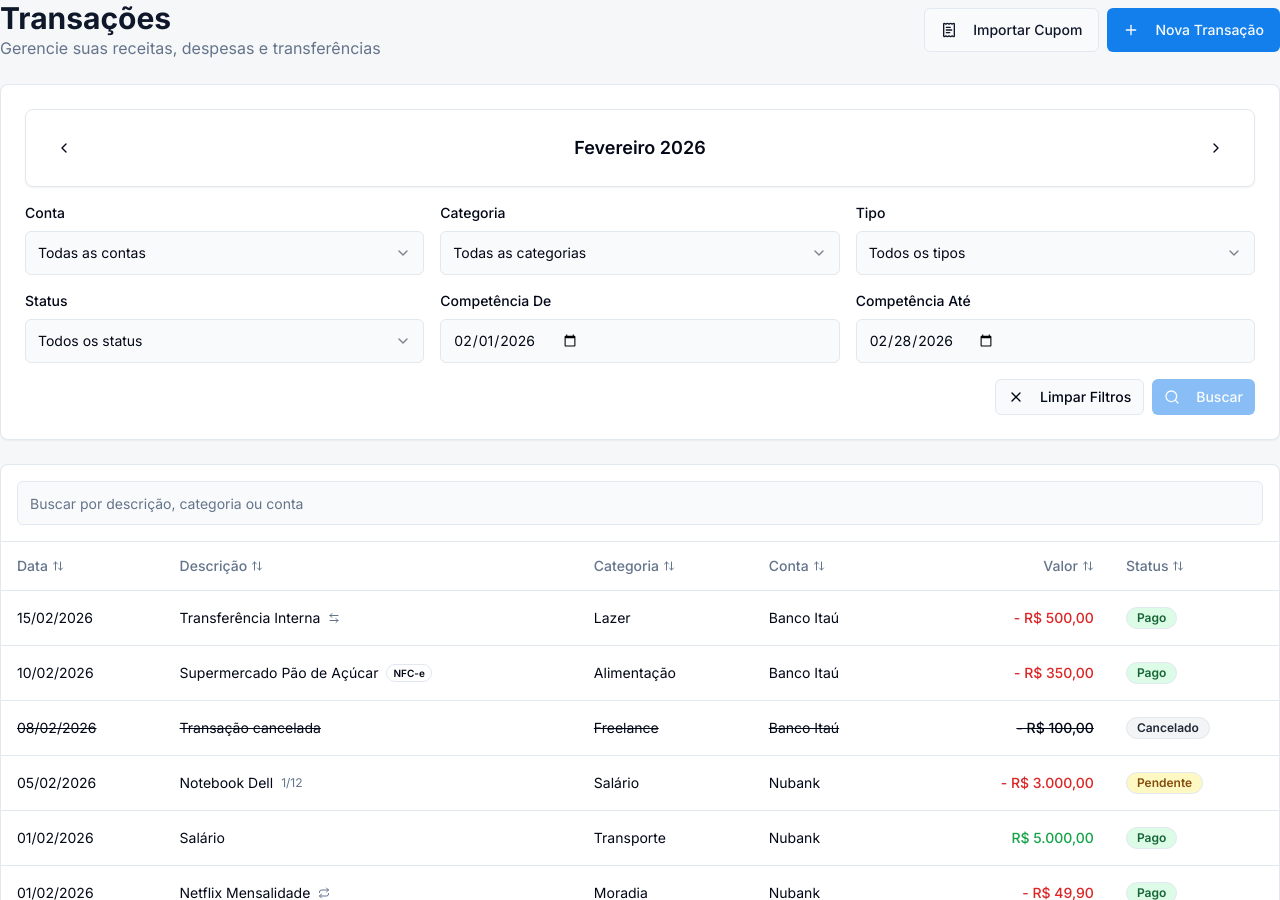
Test case: TransactionsPage Integration Tests › Empty States › shows empty state when no transactions match filters
Expected: the heading "Transações" is shown, [0, 0, 171, 36]
# Apply filter that returns no results - filter by account with no transactions
Step 1. Click the dropdown labelled "Todas as contas" → coordinates (92, 252), box [25, 231, 424, 275]
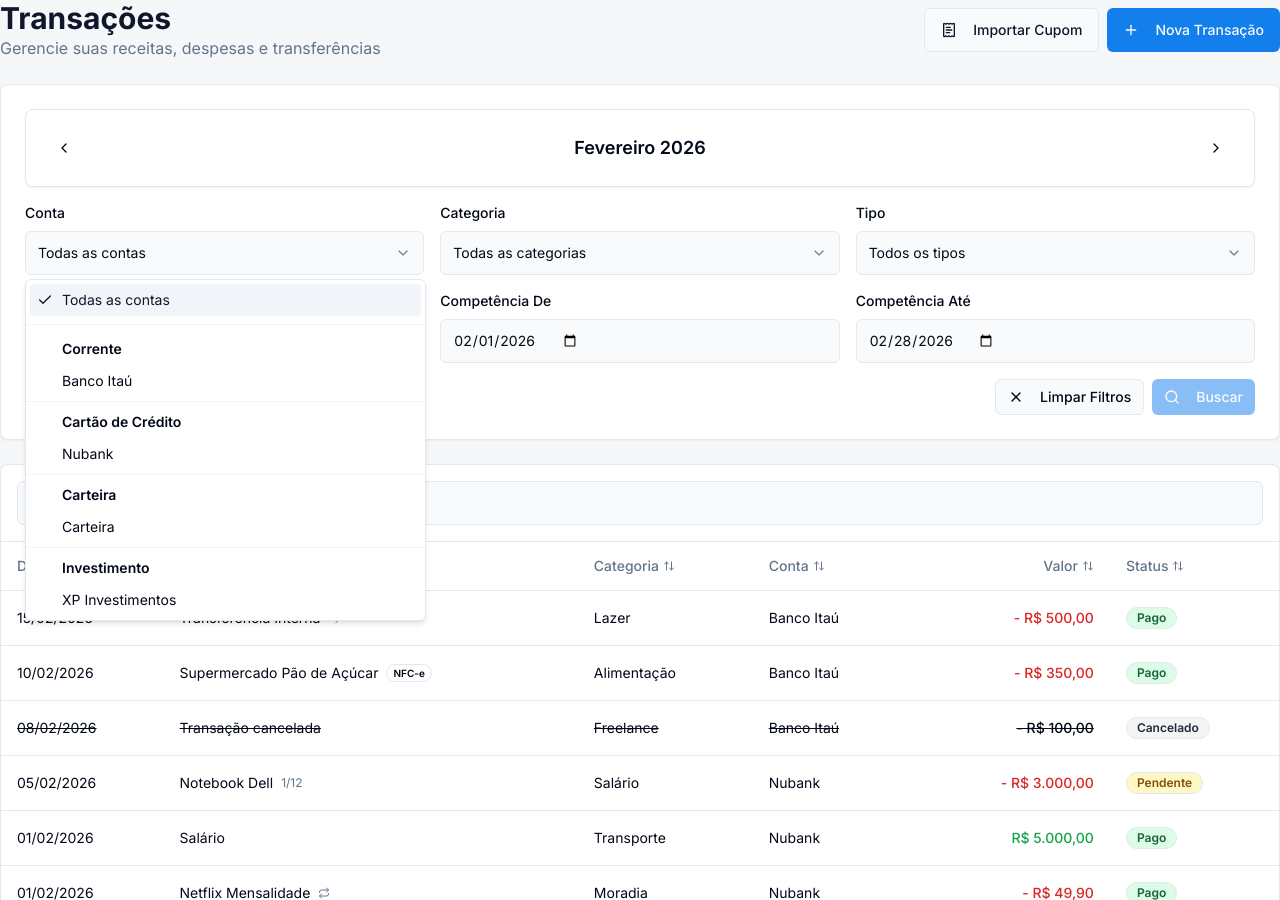
Step 2. Click the option "Carteira" → coordinates (88, 526), box [62, 518, 115, 535]
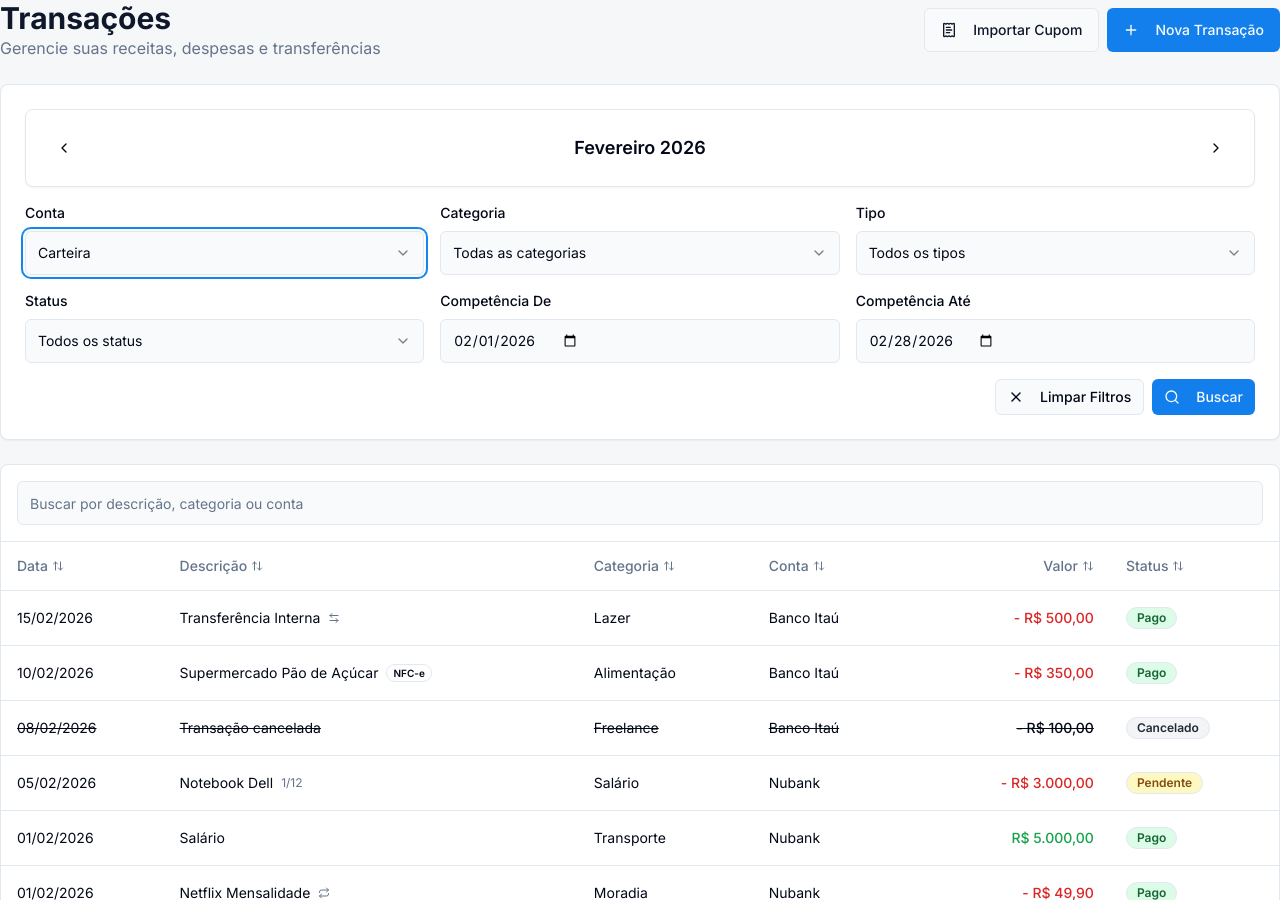
Step 3. Click the button "Buscar" → coordinates (1204, 397), box [1152, 379, 1255, 415]
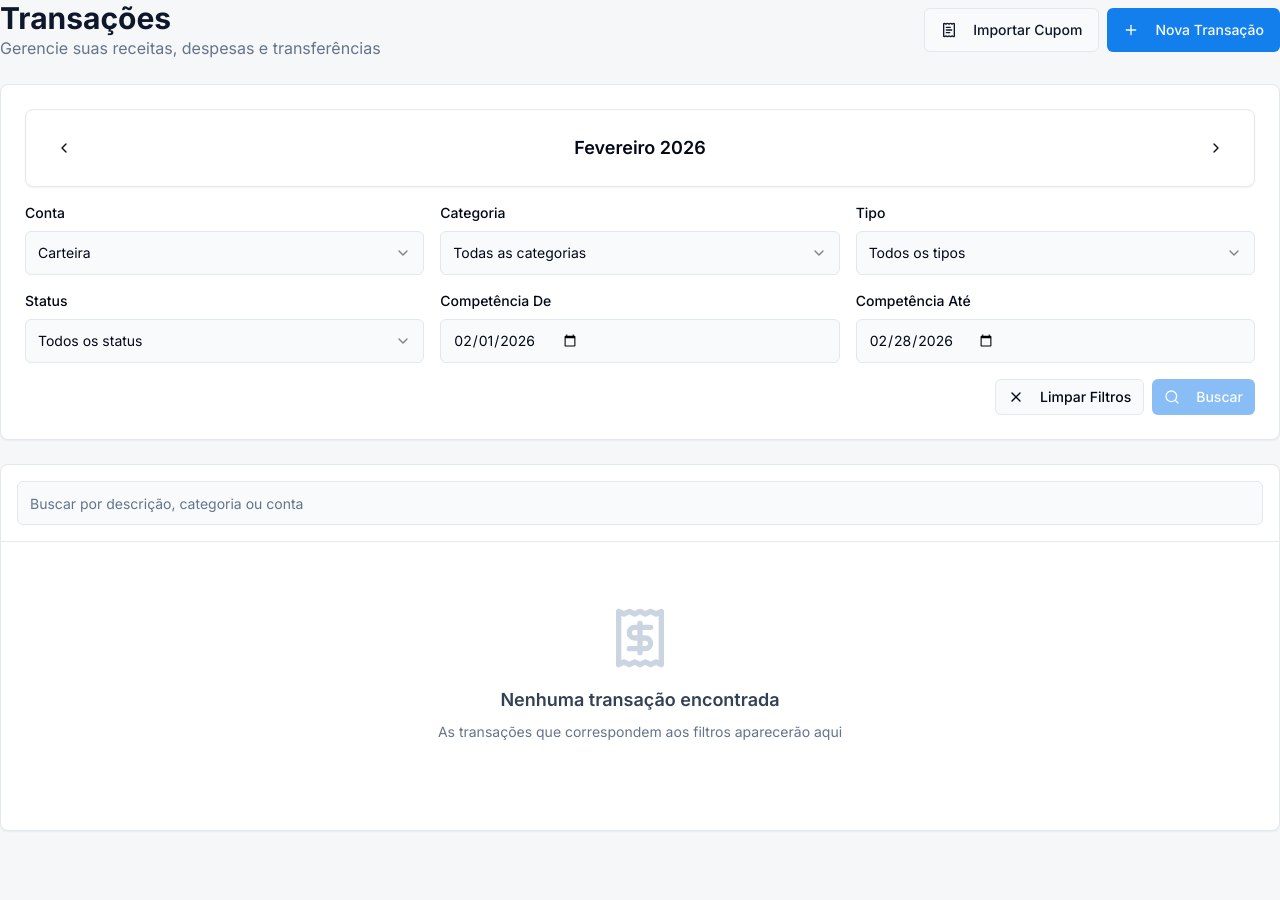
Expected: the heading "Nenhuma transação encontrada" is shown, [500, 686, 780, 714]
